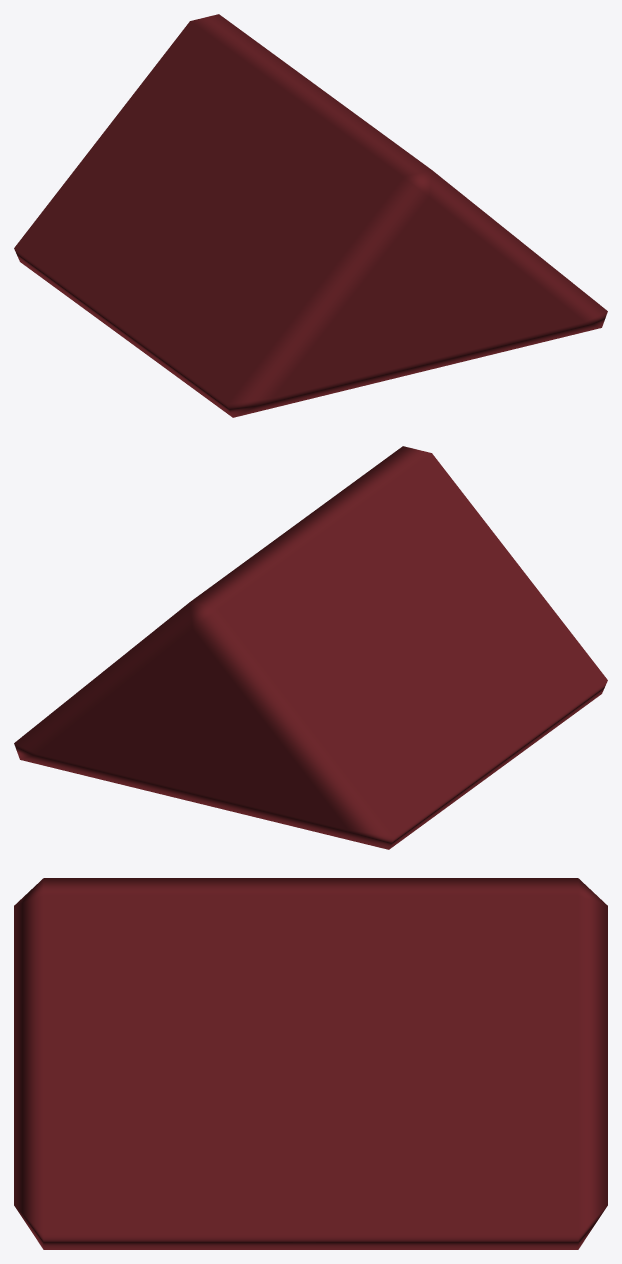
File: 1x0_5x1_Square_Roof.fbx
3 views of the same model, one above another, from view 1: azimuth 30°, elevation 25°; view 2: azimuth 150°, elevation 25°; view 3: azimuth 270°, elevation 25° (orthographic). The views are drawn at different scales.
Parts seen in each view (by area): view 1: 1x0,5x1_Square_Roof; view 2: 1x0,5x1_Square_Roof; view 3: 1x0,5x1_Square_Roof.
Part boxes in pixels (x1=…): 1x0,5x1_Square_Roof: x1=14, y1=14, x2=607, y2=417; 1x0,5x1_Square_Roof: x1=14, y1=446, x2=607, y2=849; 1x0,5x1_Square_Roof: x1=14, y1=878, x2=607, y2=1249.
Size of the model in its own units: 0.0929 by 0.0465 by 0.1.
Materials: 1 (1 with a texture image).
